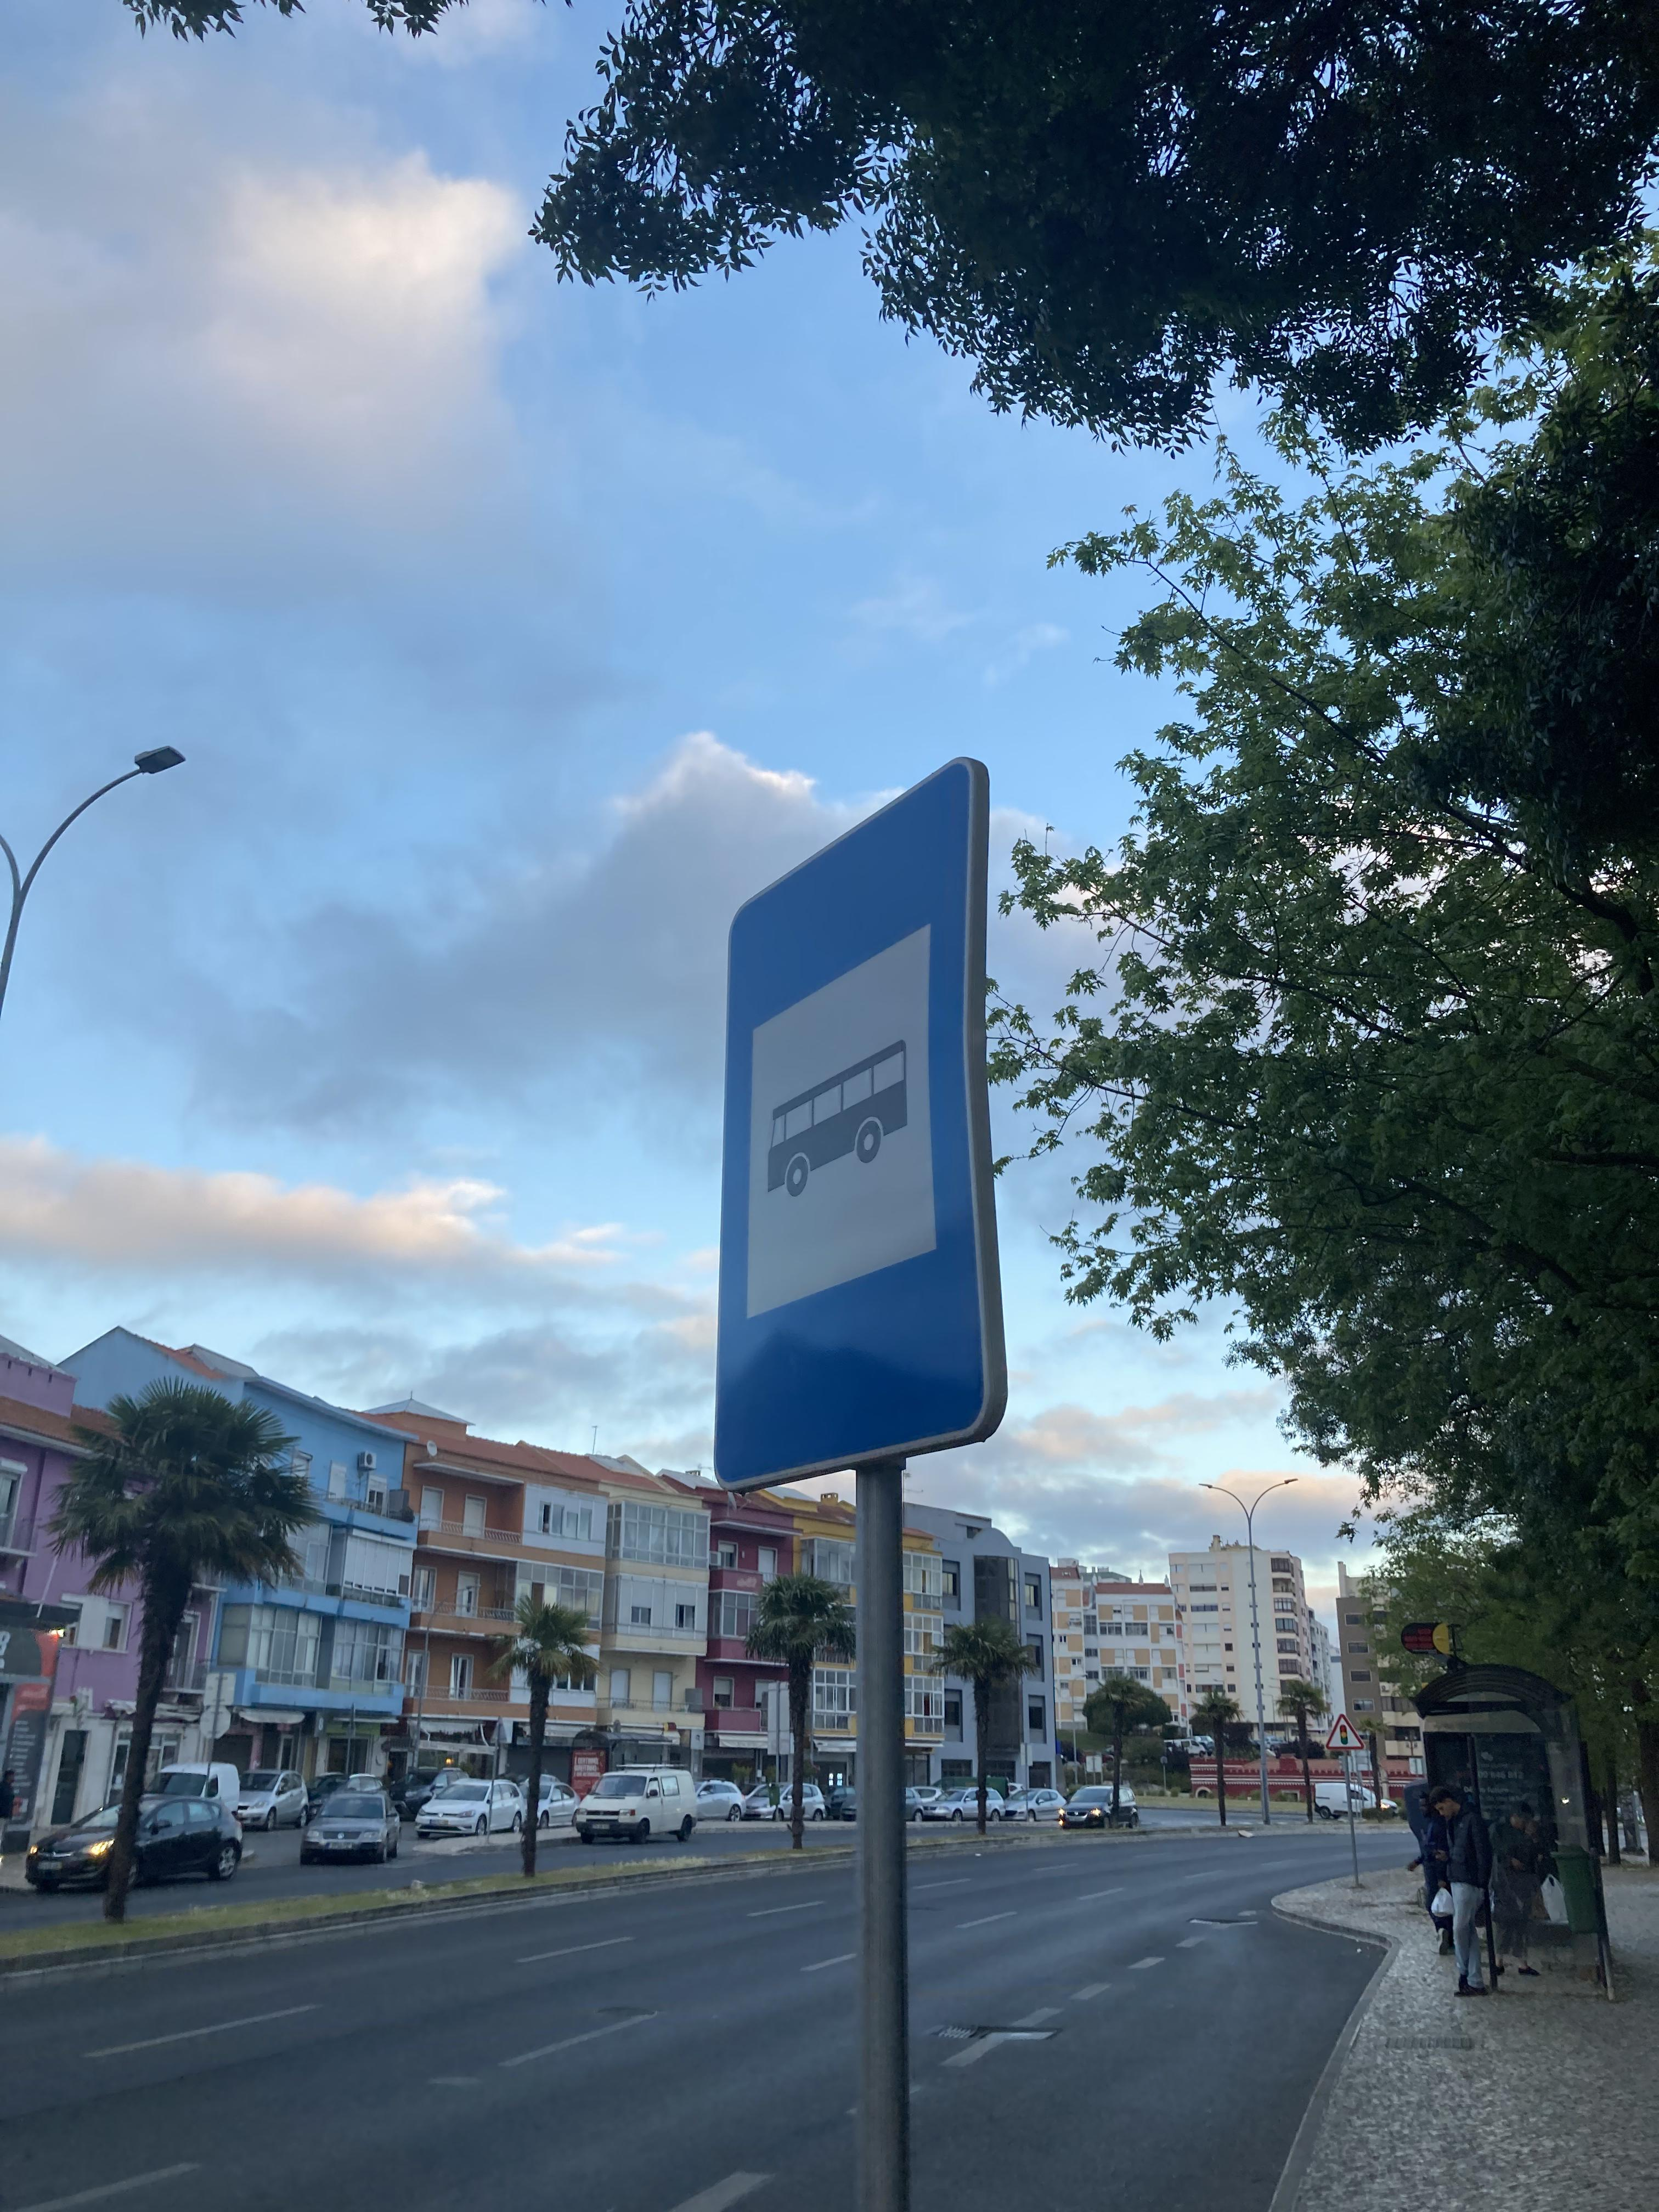Paragem de veiculos de transporte colectivo de passageiros: (692, 829, 1021, 1454)
